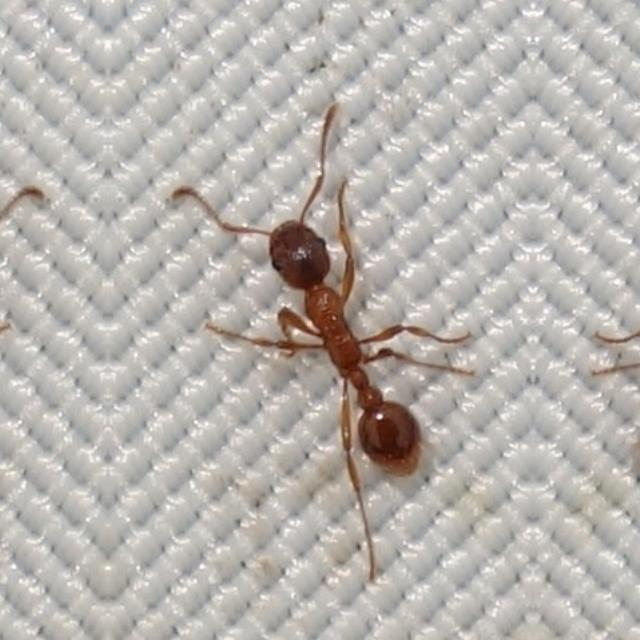Myrmica: (197, 136, 486, 498), (578, 136, 640, 498)
